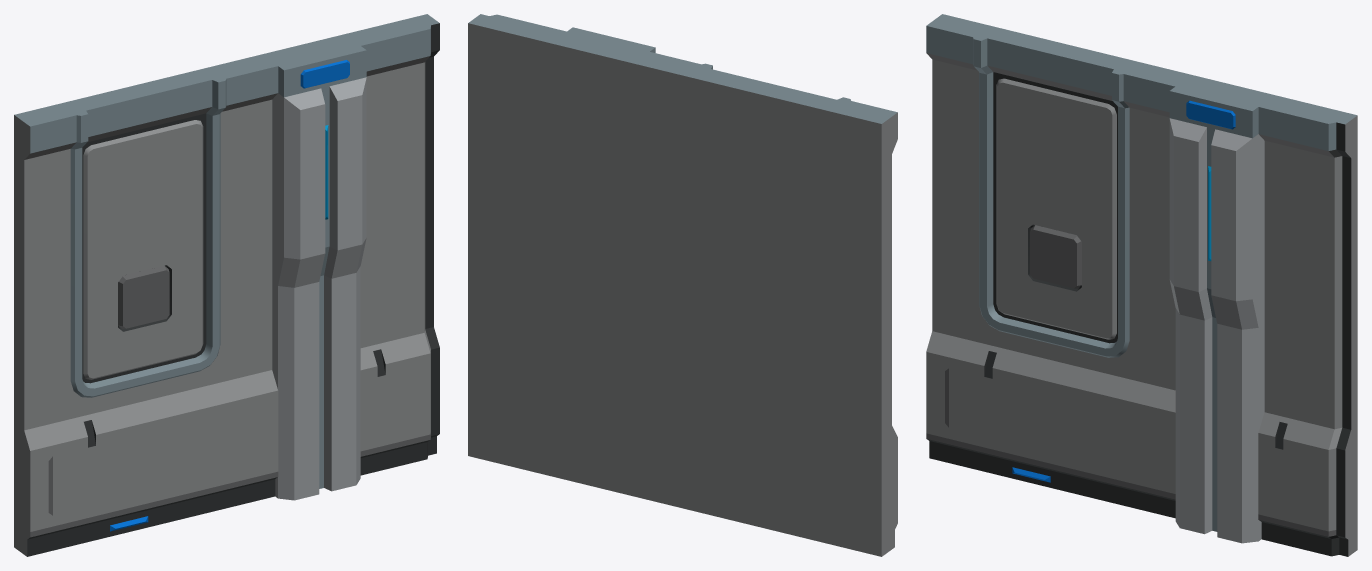
The model's file is Wall_type_B_017.fbx.
3 views of the same model, side by side, from view 1: azimuth 30°, elevation 25°; view 2: azimuth 150°, elevation 25°; view 3: azimuth 330°, elevation 25° (orthographic).
Parts seen in each view (by area): view 1: Wall_type_B_017; view 2: Wall_type_B_017; view 3: Wall_type_B_017.
Boxes of the visible parts, x1,y1,x2,y2 form: Wall_type_B_017: [14, 14, 439, 556]; Wall_type_B_017: [468, 14, 897, 556]; Wall_type_B_017: [926, 14, 1357, 556].
Size of the model in its own units: 400 by 46.98 by 400.
